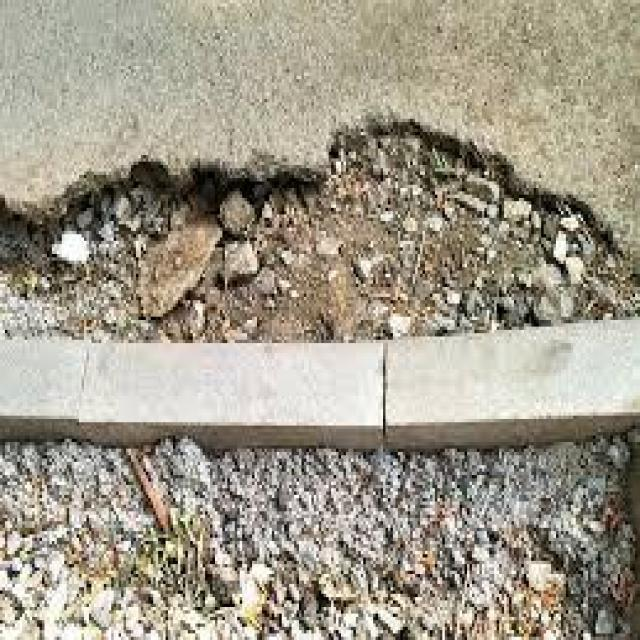bump: (8, 298, 638, 476)
hole: (0, 105, 640, 339)
